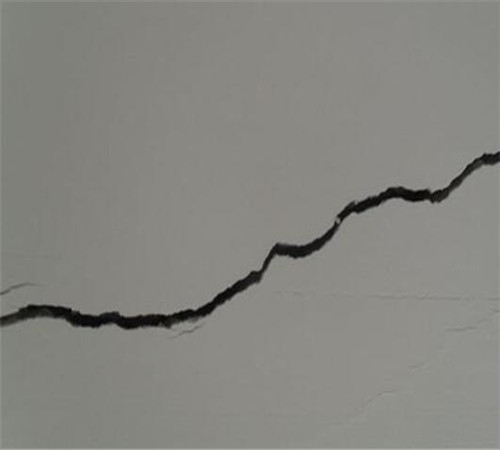crack: (349, 143, 500, 244)
